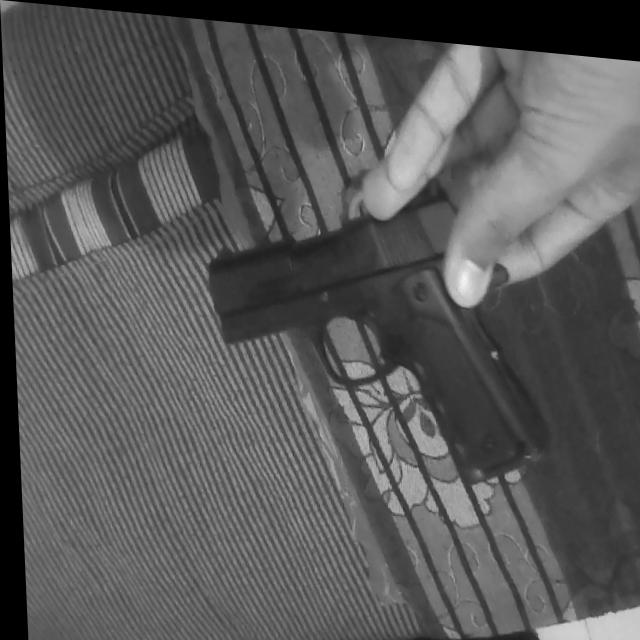handgun: (199, 155, 548, 479)
